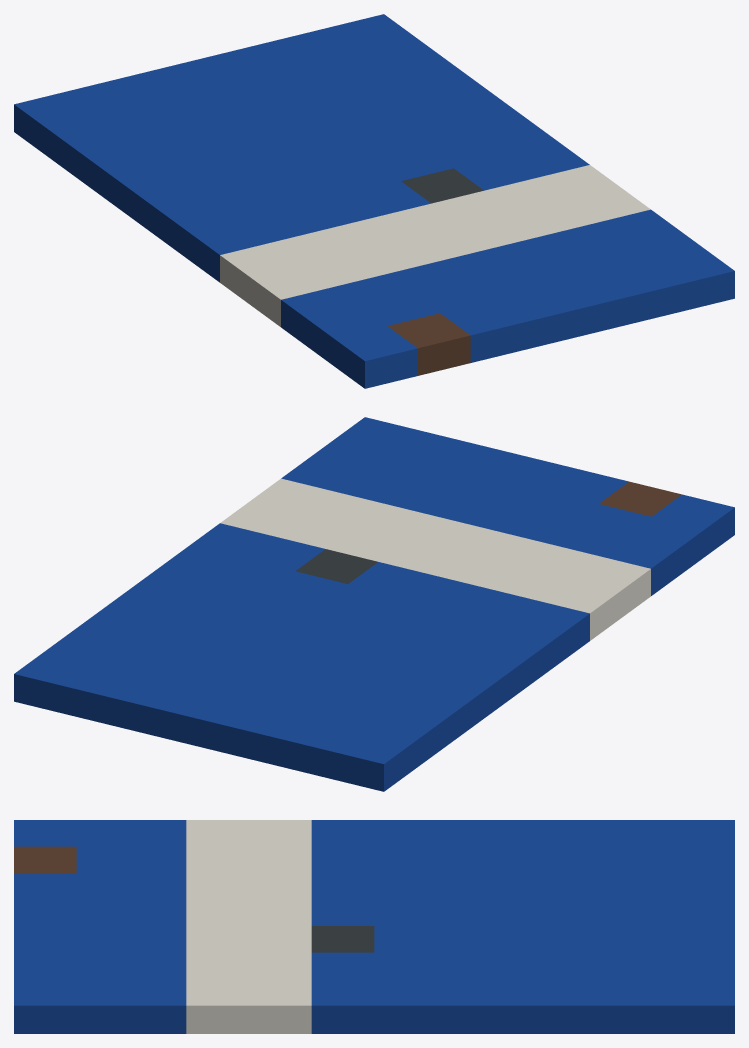
File: overturned_delivery_van_rear_door_lower.glb
3 views of the same model, one above another, from view 1: azimuth 30°, elevation 25°; view 2: azimuth 150°, elevation 25°; view 3: azimuth 270°, elevation 25° (orthographic). The views are drawn at different scales.
Visible parts, largest first — view 1: body:compound; view 2: body:compound; view 3: body:compound.
Boxes of the visible parts, bbox=[...] form: body:compound: bbox=[14, 14, 734, 388]; body:compound: bbox=[14, 417, 734, 791]; body:compound: bbox=[14, 820, 734, 1033].
Size of the model in its own units: 0.875 by 0.0625 by 1.44.
